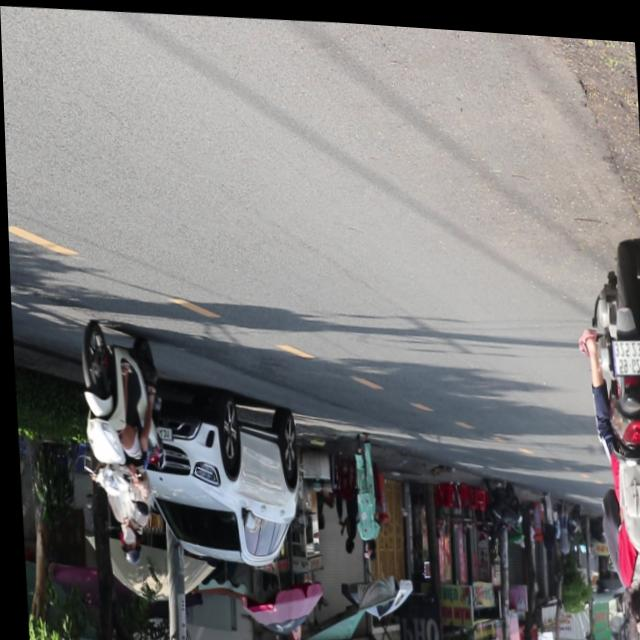helmet: (115, 522, 138, 565)
licenseplate: (571, 230, 640, 640), (72, 318, 167, 570)
motorcyclist: (624, 583, 640, 640)
nohelmet: (611, 333, 640, 368)
